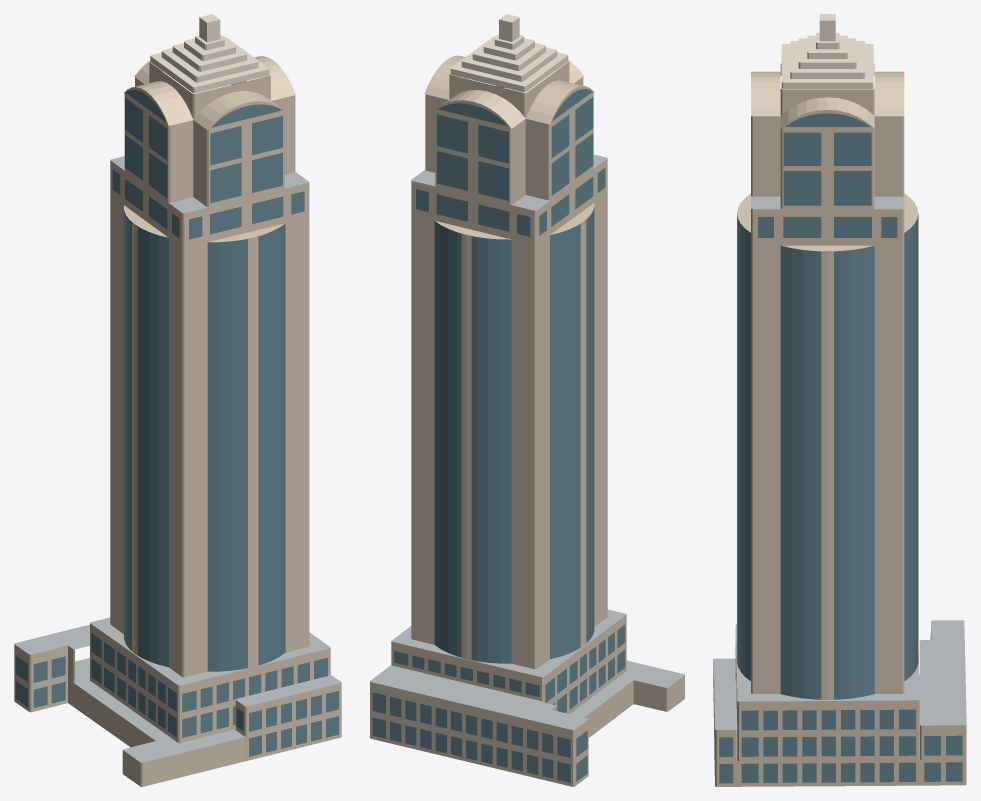
Rendered from sea-1201-third-avenue.glb.
3 renders of one model, left to right at view 1: azimuth 30°, elevation 25°; view 2: azimuth 150°, elevation 25°; view 3: azimuth 270°, elevation 25°, orthographic. The views are drawn at different scales.
Parts seen in each view (by area): view 1: 1201 Third Avenue; view 2: 1201 Third Avenue; view 3: 1201 Third Avenue.
Part boxes in pixels (x1=…): 1201 Third Avenue: x1=14, y1=14, x2=341, y2=786; 1201 Third Avenue: x1=370, y1=14, x2=684, y2=786; 1201 Third Avenue: x1=713, y1=14, x2=966, y2=786.
Size of the model in its own units: 72.56 by 231 by 72.83.
